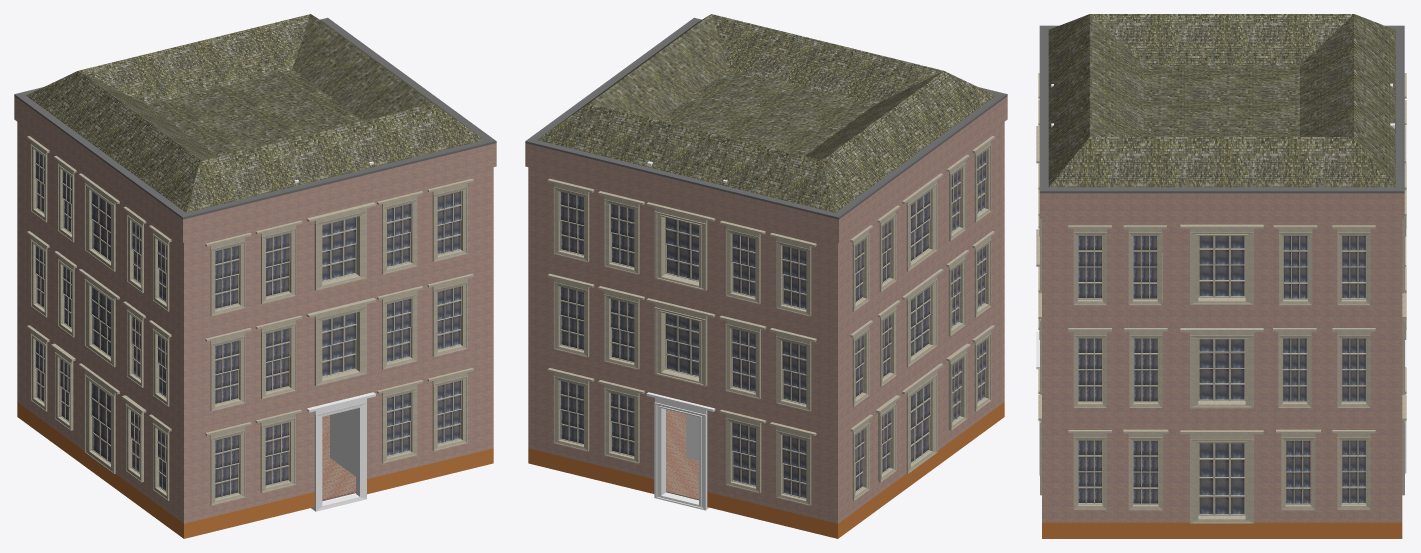
Rendered from tka3.fbx.
The picture shows the model from 3 angles, left to right: view 1: azimuth 30°, elevation 25°; view 2: azimuth 150°, elevation 25°; view 3: azimuth 270°, elevation 25°; orthographic projection. The views are drawn at different scales.
Parts seen in each view (by area): view 1: Plane.006; view 2: Plane.006; view 3: Plane.006.
Boxes of the visible parts, <box> form: Plane.006: <box>14,14,496,538</box>; Plane.006: <box>525,14,1007,538</box>; Plane.006: <box>1036,14,1406,538</box>.
Bounding box in the file's own units: 756 × 813 × 707.
Materials: 9 (5 with a texture image).
